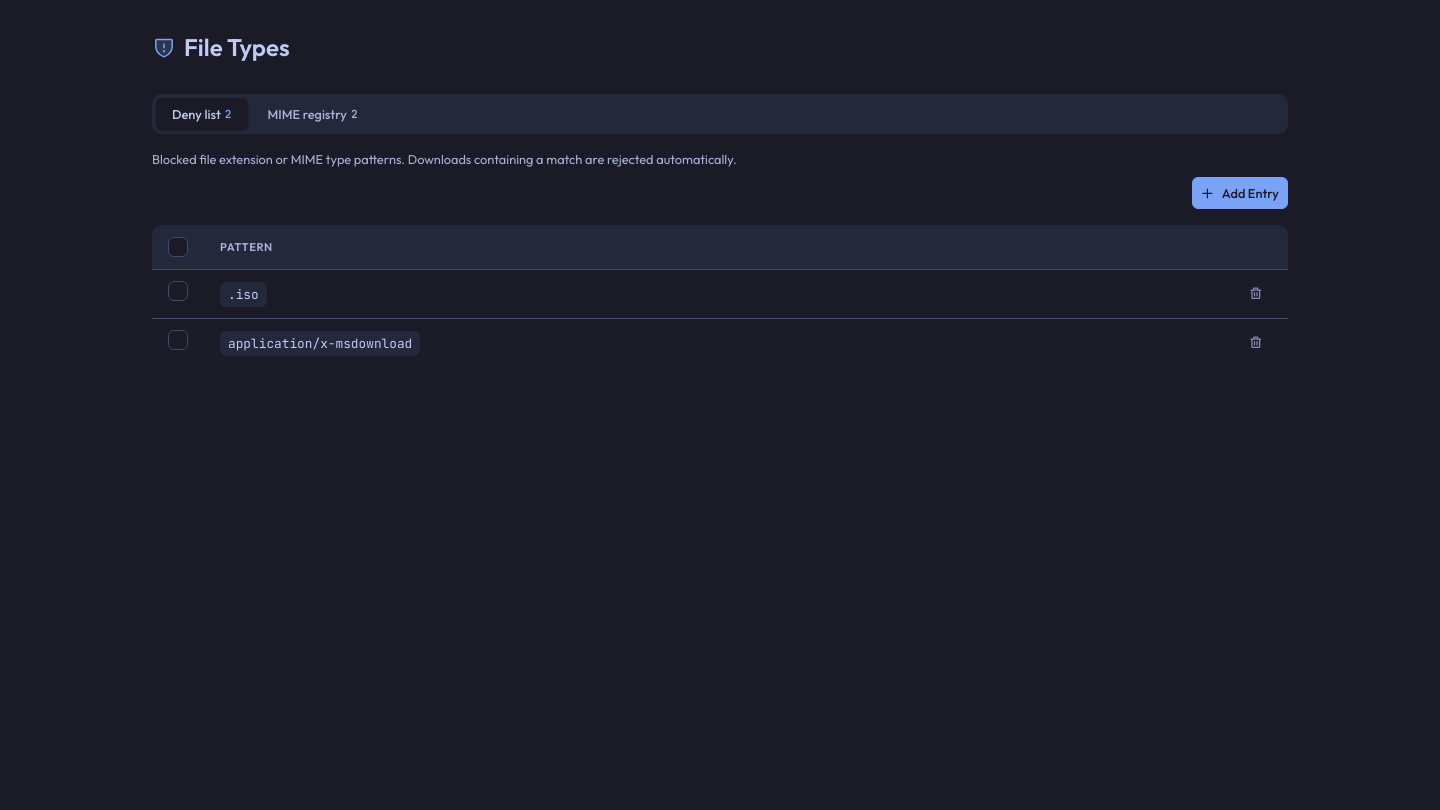
Test: FileTypesPage mime registry › shows a modal error when either field is empty
This screenshot has width=1440, height=810.
Click the tab "MIME registry 2". click: [313, 114]
box: [252, 98, 374, 130]
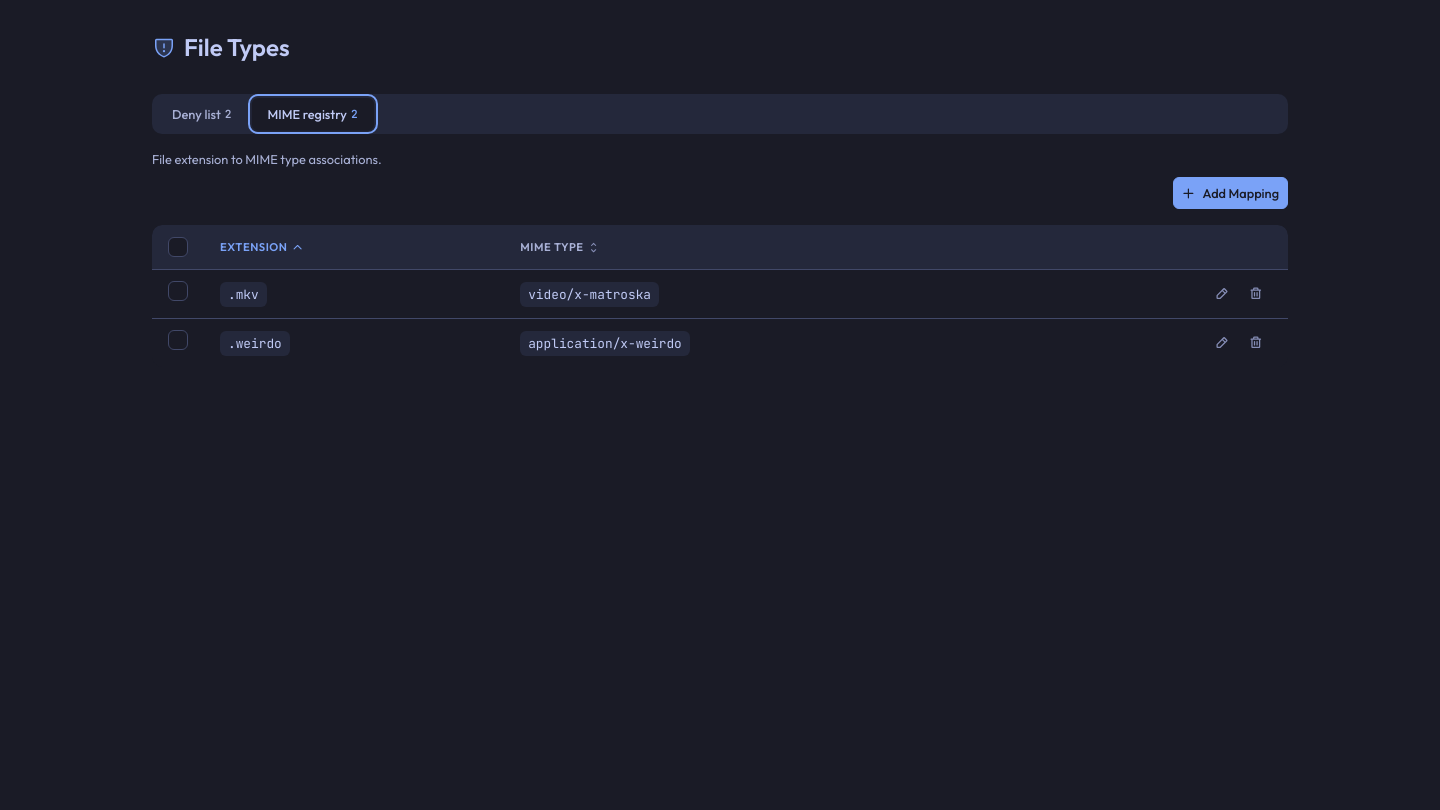
Click the button "Add Mapping". click: [1230, 193]
box: [1173, 177, 1288, 209]
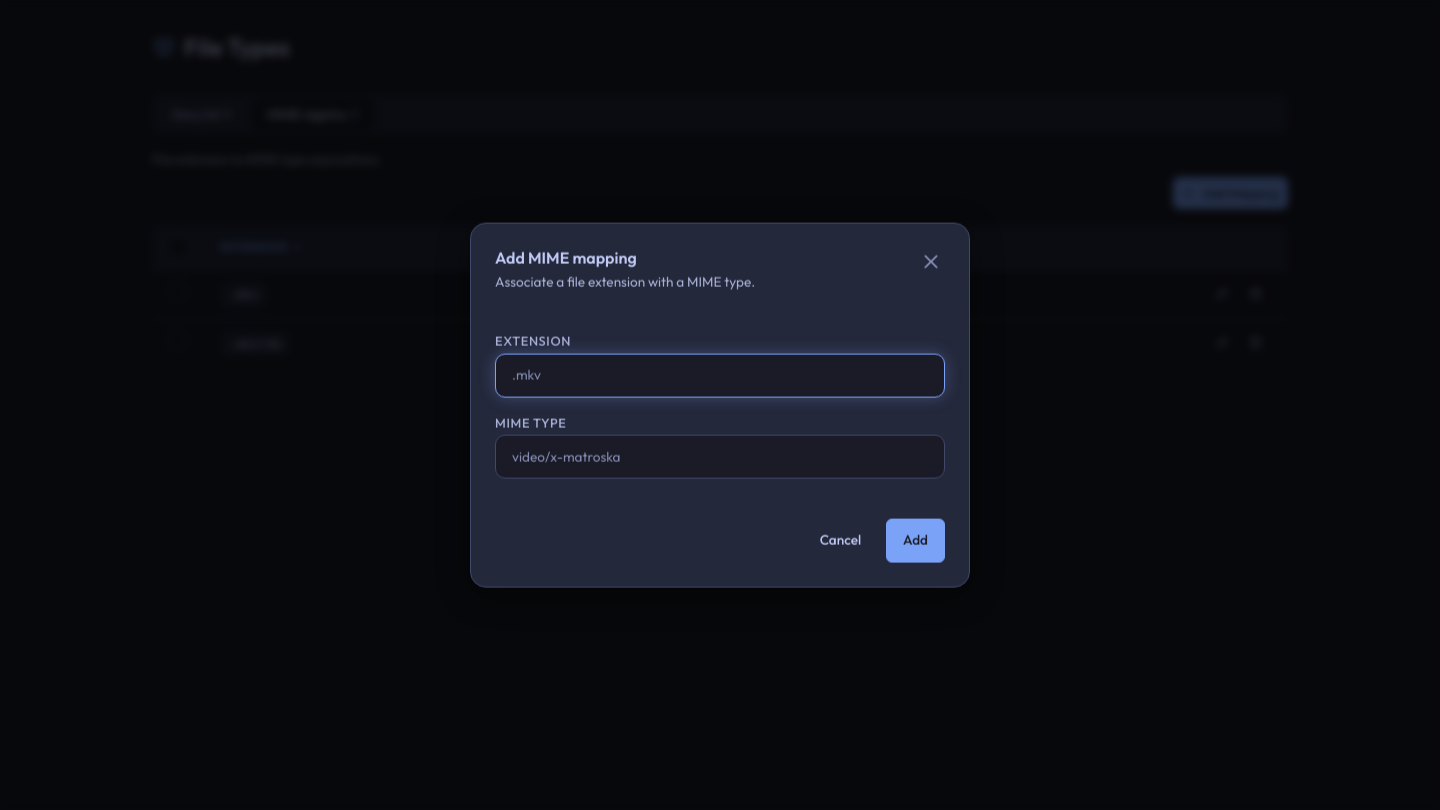
Click the button "Add". click: [916, 540]
box: [886, 518, 945, 562]
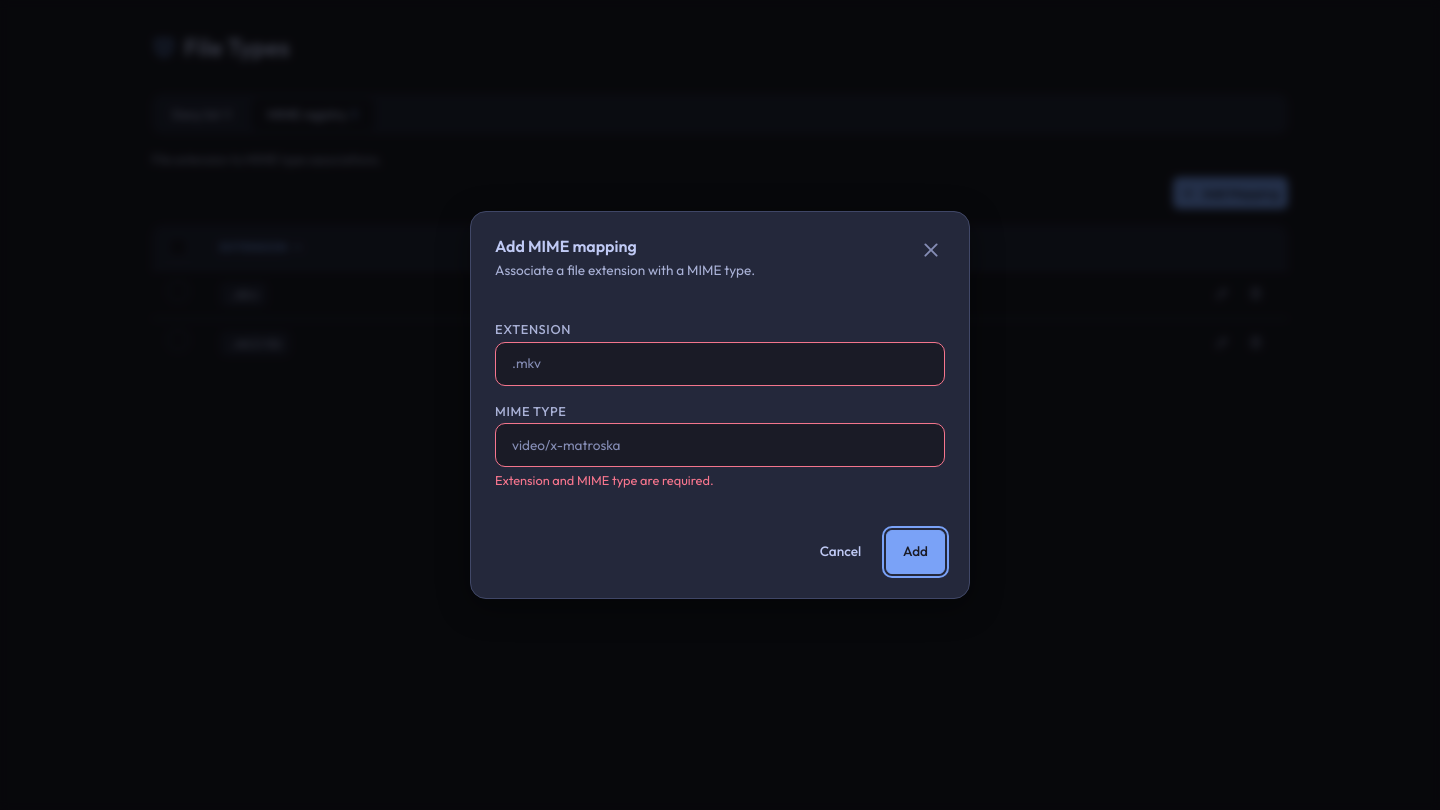
Check: the message shows "Extension and MIME type are required", box [495, 472, 714, 488]
